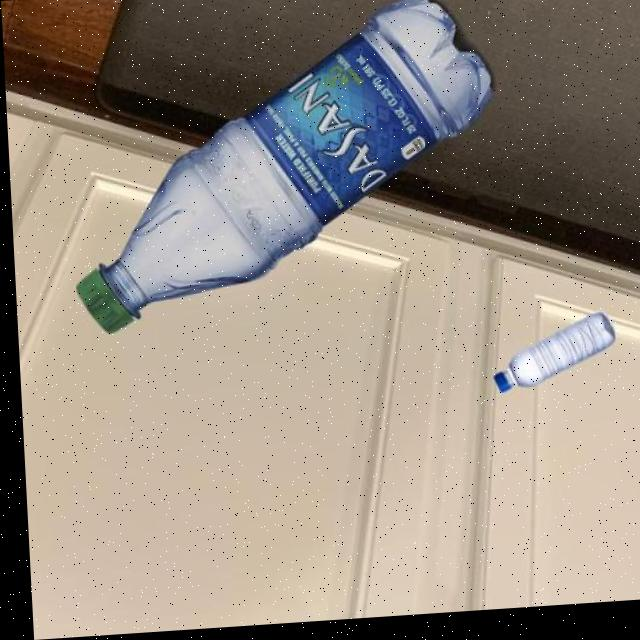bottle: (61, 0, 503, 338), (486, 319, 615, 403)
